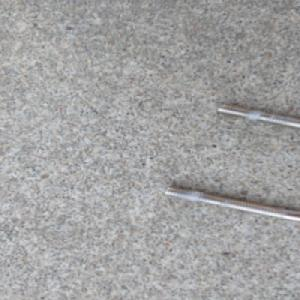ClampPart: (163, 101, 300, 222)
